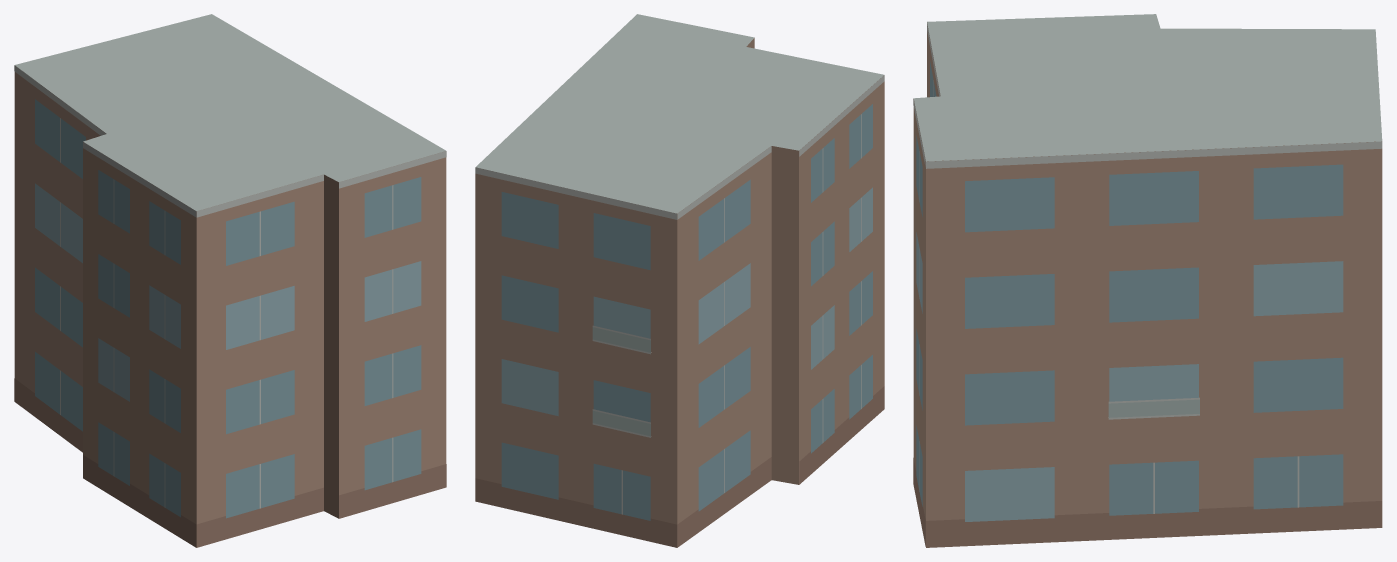
Rendered from survey-upis-32610806.glb.
The picture shows the model from 3 angles, left to right: view 1: azimuth 30°, elevation 25°; view 2: azimuth 150°, elevation 25°; view 3: azimuth 270°, elevation 25°; orthographic projection. The views are drawn at different scales.
Parts seen in each view (by area): view 1: survey-upis-32610806.tmp; view 2: survey-upis-32610806.tmp; view 3: survey-upis-32610806.tmp.
Part boxes in pixels (x1,y1,x2,y2): survey-upis-32610806.tmp: (14, 14, 446, 547); survey-upis-32610806.tmp: (475, 14, 884, 547); survey-upis-32610806.tmp: (913, 14, 1382, 547).
Size of the model in its own units: 10.49 by 12.8 by 14.08.
